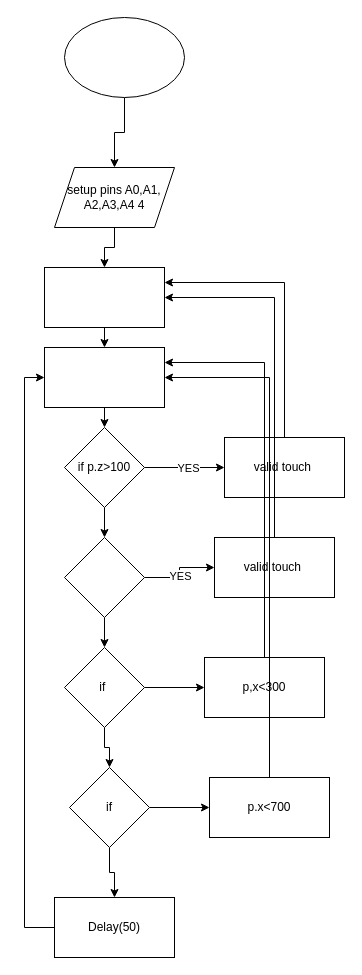
Some shapes in this 362 by 975 pixel diagram are drawn without their labels. The shapes that lost their labels are listed below. From the top down, each one's box as (x1, y1, x2, y2) in pixels, then its label:
(64, 16, 184, 98): START
(44, 266, 164, 328): Restore pin mode after reading touch pinMODE(XM,YP)
(44, 346, 164, 408): Simple control zone
(64, 536, 144, 618): if p.z<1000
